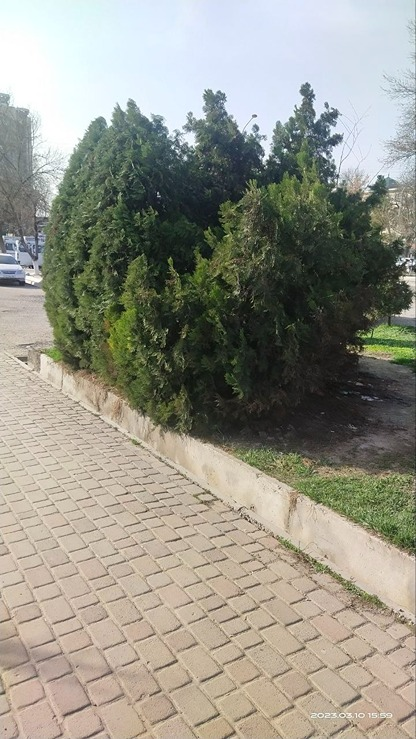tree: (64, 79, 400, 426), (0, 251, 26, 288)
